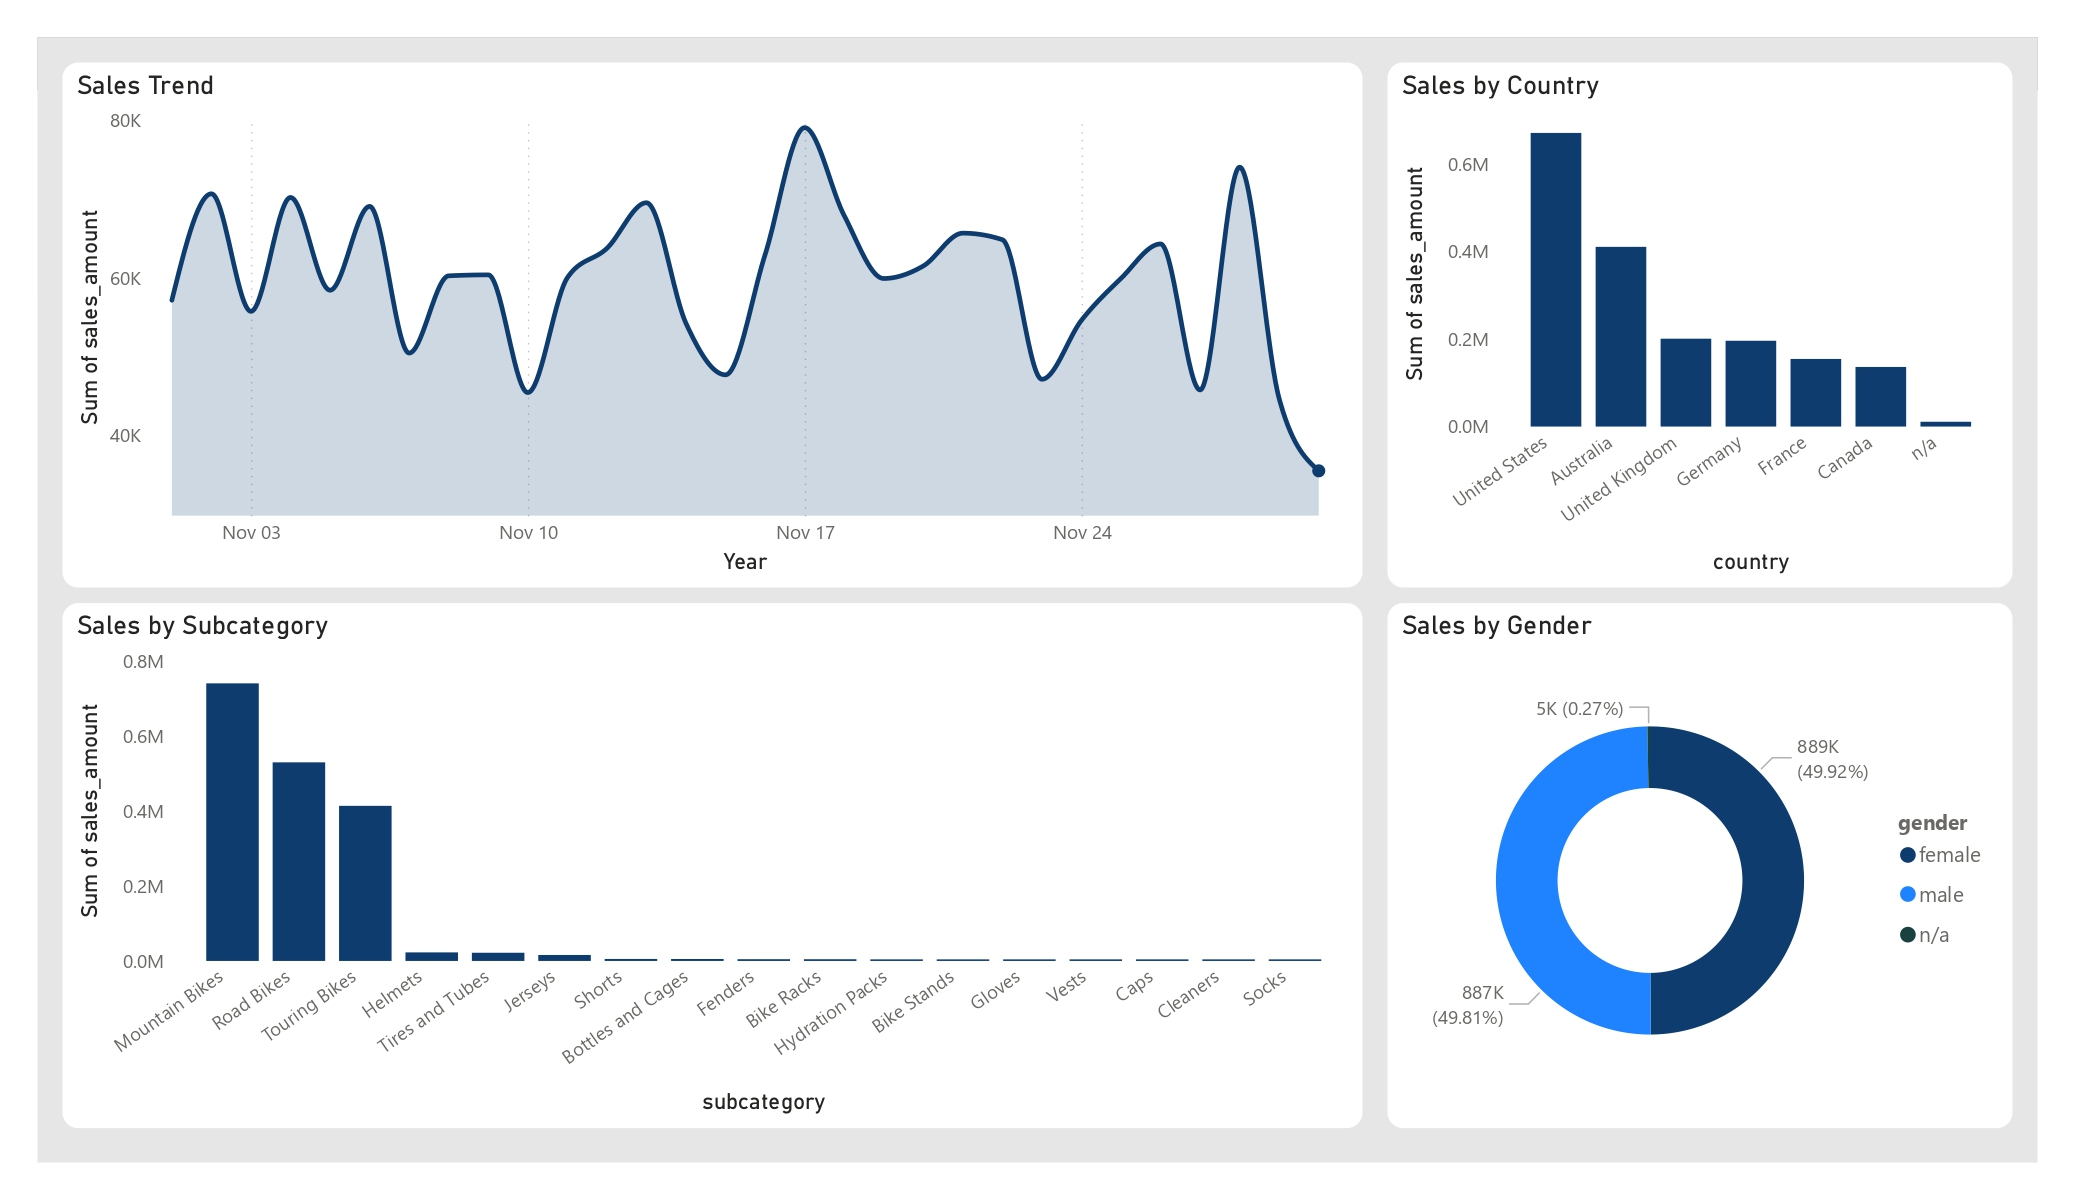

The dashboard page shown, as its layout file describes it:
{"tool":"powerbi","page":{"name":"Page 1","canvas":[1280,720],"ordinal":0},"visuals":[{"type":"lineChart","title":"Sales Trend","fields":{"Y":["Sum(gold fact_sales.sales_amount)"],"Category":["gold fact_sales.order_date.Variation.Date Hierarchy.Year","gold fact_sales.order_date.Variation.Date Hierarchy.Quarter","gold fact_sales.order_date.Variation.Date Hierarchy.Month","gold fact_sales.order_date.Variation.Date Hierarchy.Day"]},"box":[16,16,832,336],"z":0},{"type":"clusteredColumnChart","title":"Sales by Subcategory","fields":{"Y":["Sum(gold fact_sales.sales_amount)"],"Category":["gold dim_products.subcategory"]},"box":[16,362,832,336],"z":1},{"type":"clusteredColumnChart","title":"Sales by Country","fields":{"Y":["Sum(gold fact_sales.sales_amount)"],"Category":["gold dim_customers.country"]},"box":[864,16,400,336],"z":2},{"type":"donutChart","title":"Sales by Gender","fields":{"Category":["gold dim_customers.gender"],"Y":["Sum(gold fact_sales.sales_amount)"]},"box":[864,362,400,336],"z":3}]}

Visuals, with their boxes on the page's 1280x720 design canvas (x1, y1, x2, y2). These are canvas units, not pixel positions in the 2075x1200 screenshot, which may show the page scaled, cropped or inside an application window:
"Sales Trend" lineChart: bbox(16, 16, 848, 352)
"Sales by Subcategory" clusteredColumnChart: bbox(16, 362, 848, 698)
"Sales by Country" clusteredColumnChart: bbox(864, 16, 1264, 352)
"Sales by Gender" donutChart: bbox(864, 362, 1264, 698)
